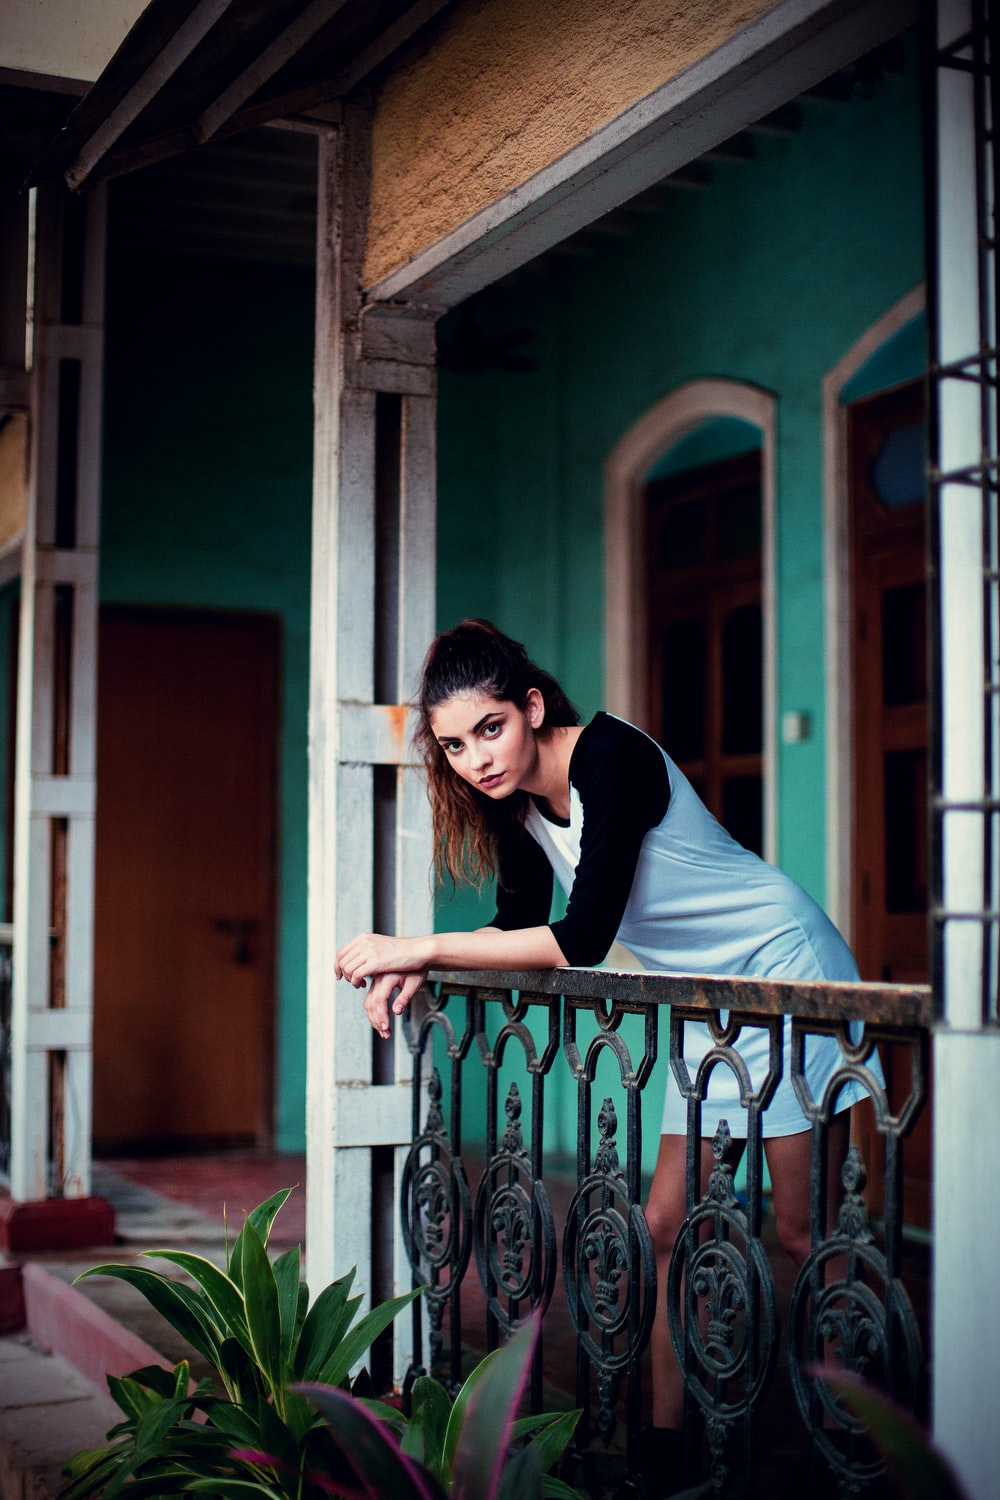face: (419, 597, 591, 842)
